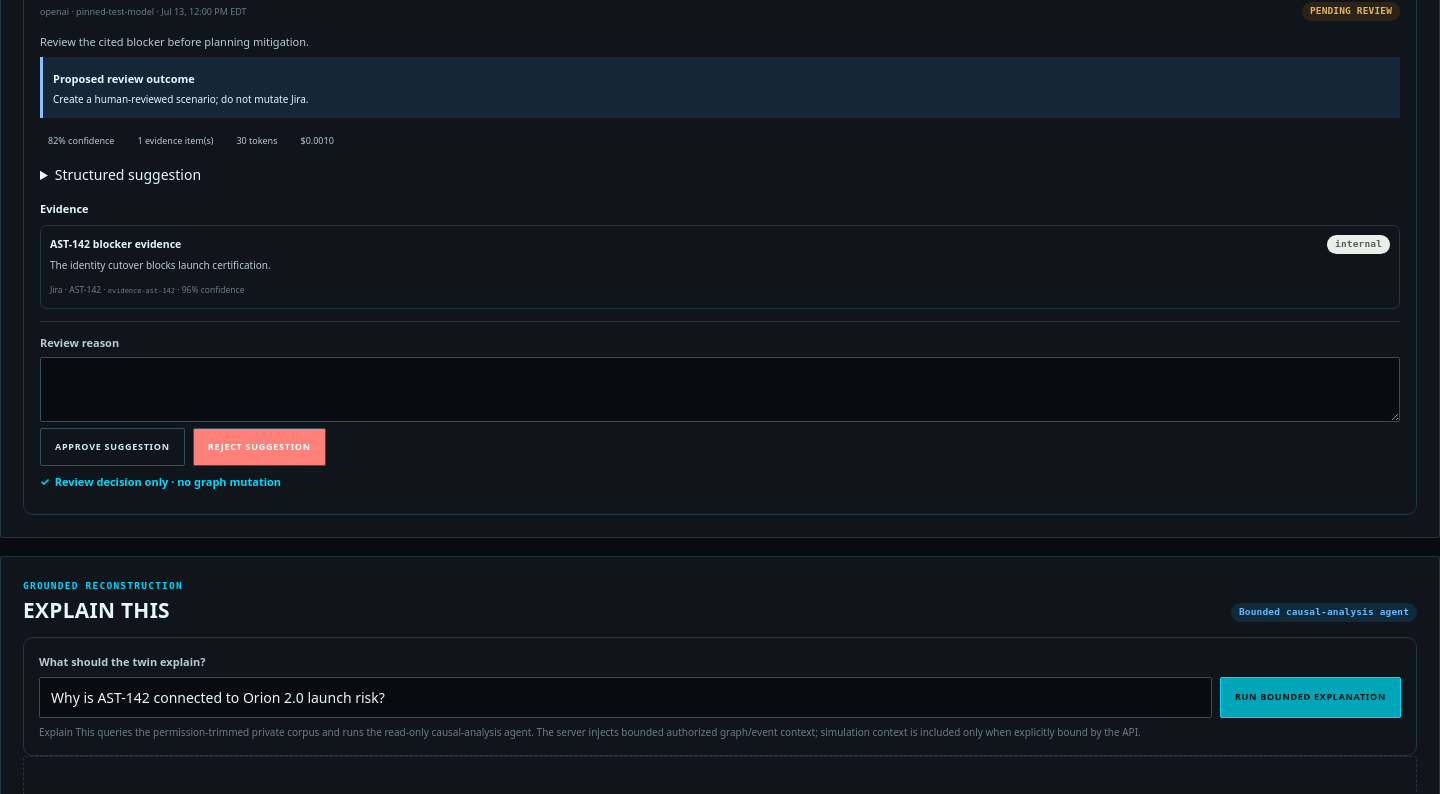
Test: AIControlCenter › records approve and reject controls as review-only decisions
(page scrolled)
Step 1. Type "Evidence is sufficient for human consideration." into the text box labelled "Review reason" → [720, 390], box [40,357,1400,422]
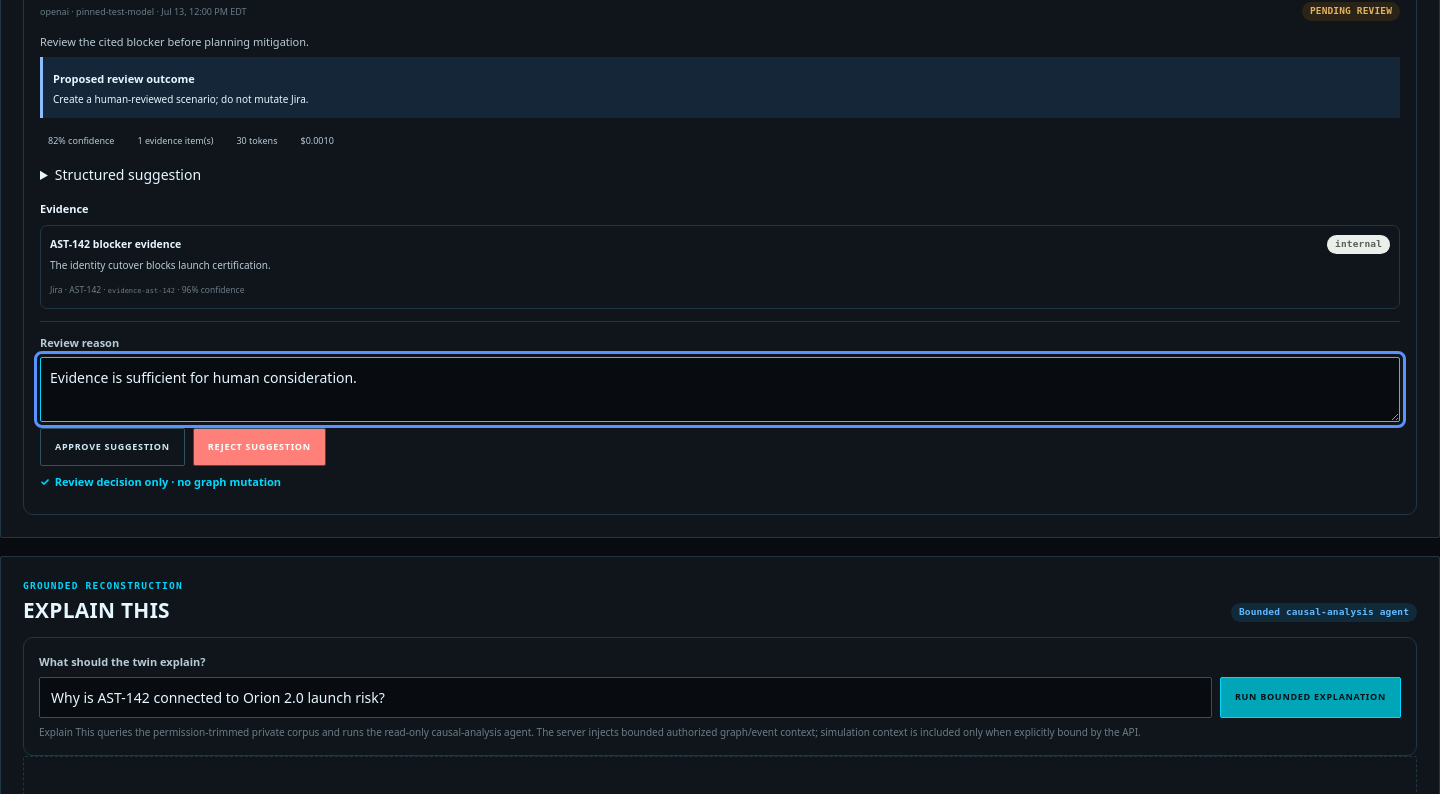
Step 2. Click the button "Approve suggestion" → [112, 447], box [40,428,185,466]
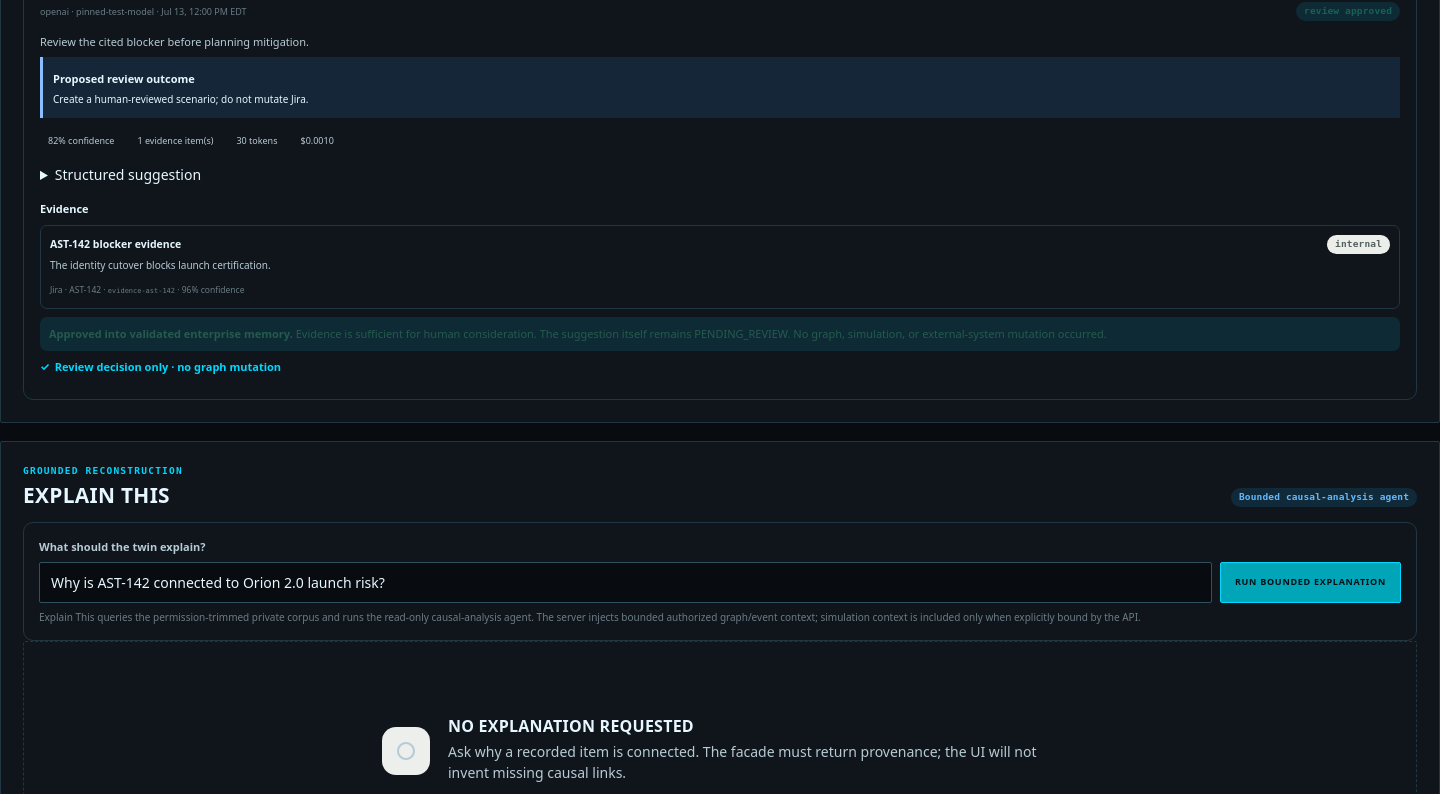
Now the text "Approved into validated enterprise memory." is shown, box [49,326,293,341]
Now the text "No graph, simulation, or external-system mutation occurred" is shown, box [537,326,1107,341]
